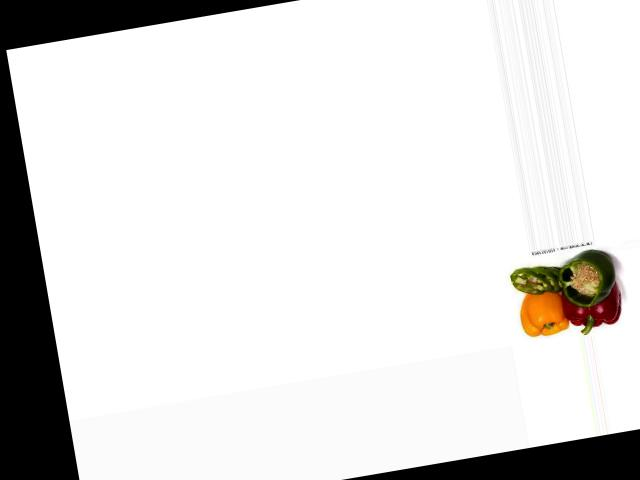bell_pepper: (555, 250, 625, 312)
